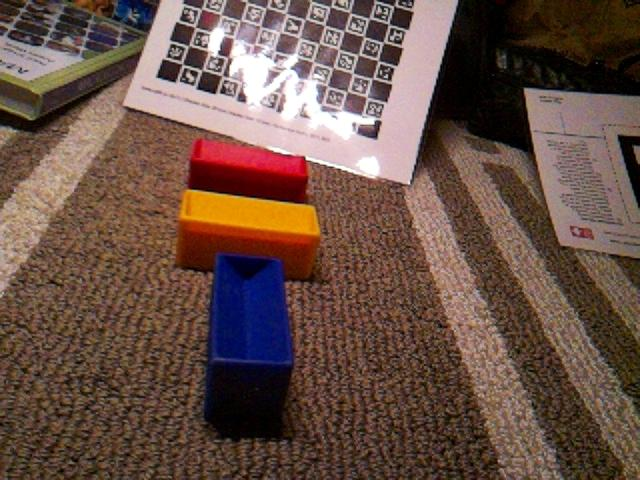blue: (202, 251, 296, 435)
red: (187, 136, 310, 203)
yellow: (175, 187, 322, 281)
